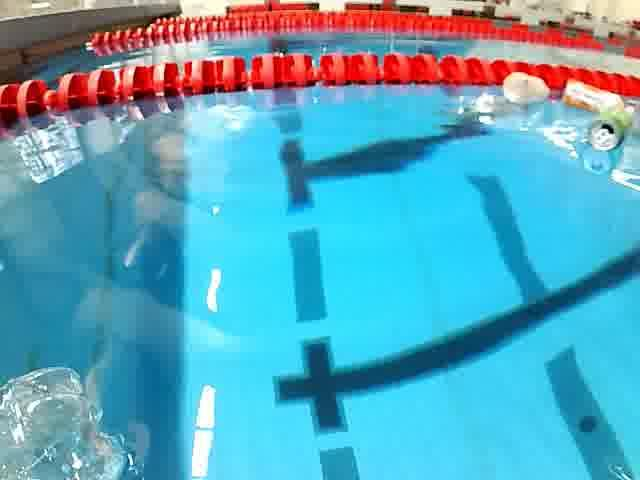Bottle: (0, 362, 138, 480), (554, 74, 640, 114), (492, 68, 556, 110)
Can: (575, 107, 640, 151)
